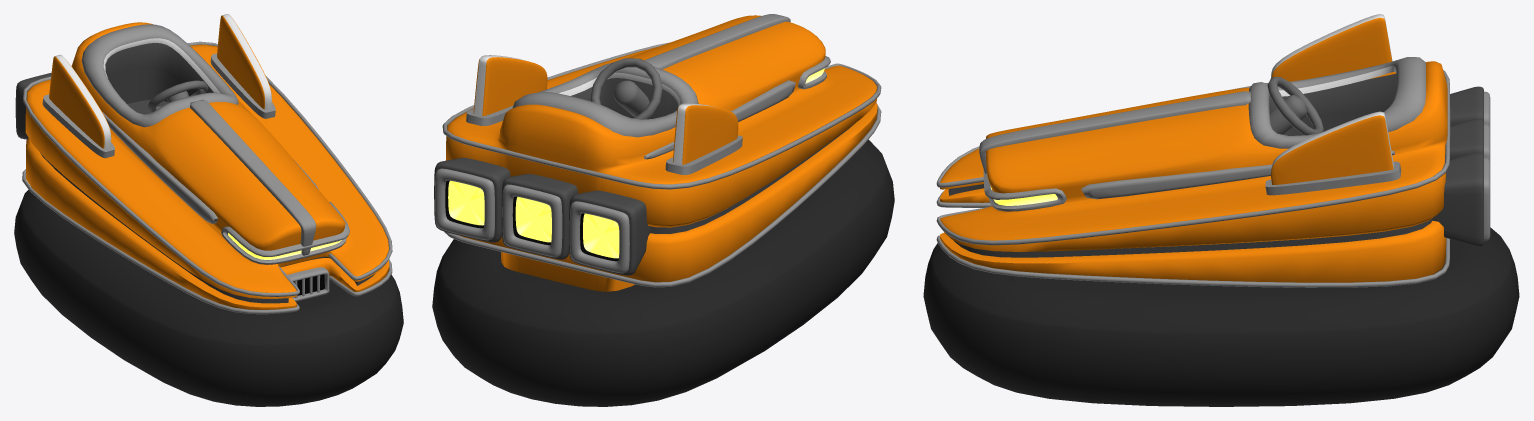
Rendered from mesh_Car_Menu_O.fbx.
3 renders of one model, left to right at view 1: azimuth 30°, elevation 25°; view 2: azimuth 150°, elevation 25°; view 3: azimuth 270°, elevation 25°, orthographic. The views are drawn at different scales.
Parts seen in each view (by area): view 1: mesh_Car_Menu_O; view 2: mesh_Car_Menu_O; view 3: mesh_Car_Menu_O.
Boxes of the visible parts, bbox=[...] form: mesh_Car_Menu_O: bbox=[14, 14, 403, 406]; mesh_Car_Menu_O: bbox=[432, 14, 894, 406]; mesh_Car_Menu_O: bbox=[923, 14, 1519, 406].
Size of the model in its own units: 1.79 by 1.59 by 2.97.
